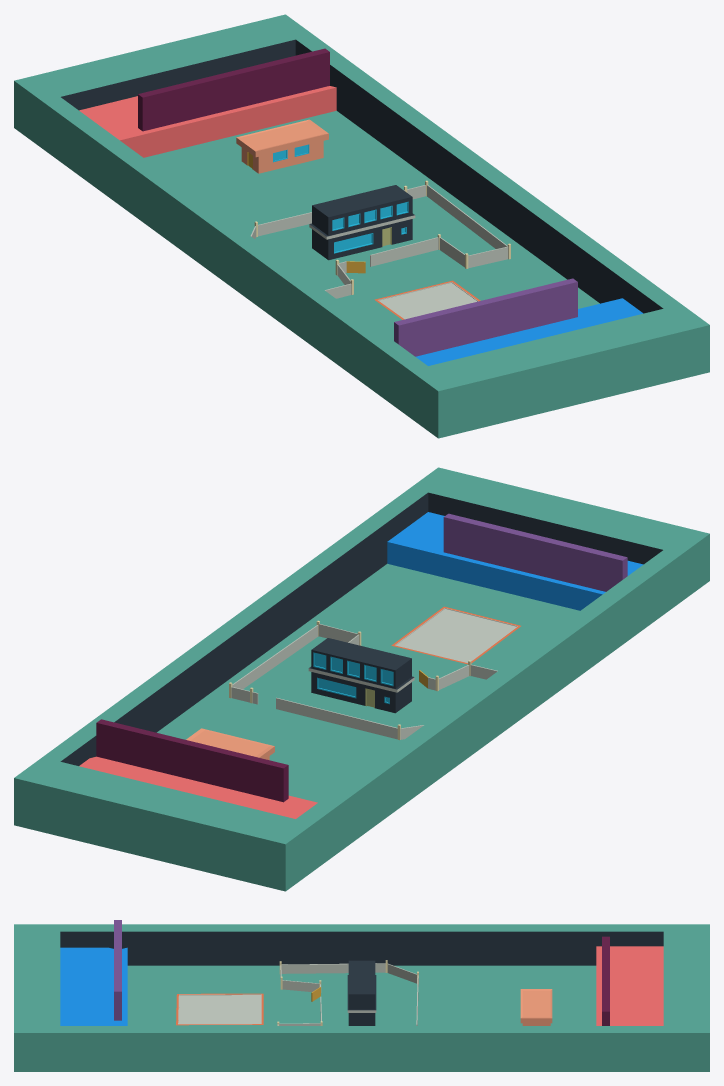
Rendered from mainLevel.fbx.
3 renders of one model, top to bottom at view 1: azimuth 30°, elevation 25°; view 2: azimuth 150°, elevation 25°; view 3: azimuth 270°, elevation 25°, orthographic. The views are drawn at different scales.
Parts seen in each view (by area): view 1: Cube; view 2: Cube; view 3: Cube.
Part boxes in pixels (x1,y1,x2,y2): Cube: (14, 14, 709, 438); Cube: (14, 467, 709, 891); Cube: (14, 920, 709, 1071).
Bounding box in the file's own units: 9462 × 2243 × 25600.
